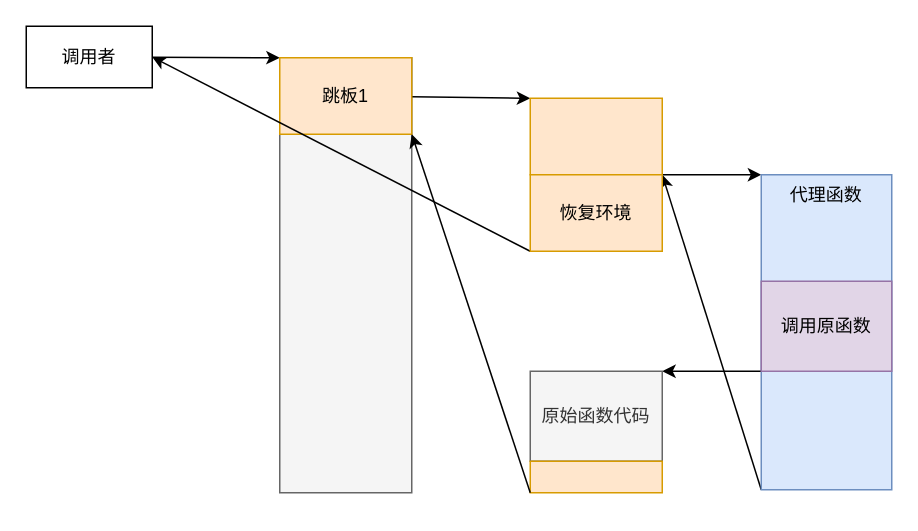
Image size: 918x531. Some labels were removed from this diagram. The shapes that lost their labels are listed below. From the top down, each one's box as (x1, y1, x2, y2) in pixels, then its label:
(529, 97, 662, 175): 跳板2 保存环境
(278, 56, 412, 493): 目标函数
(529, 460, 662, 493): 跳板
